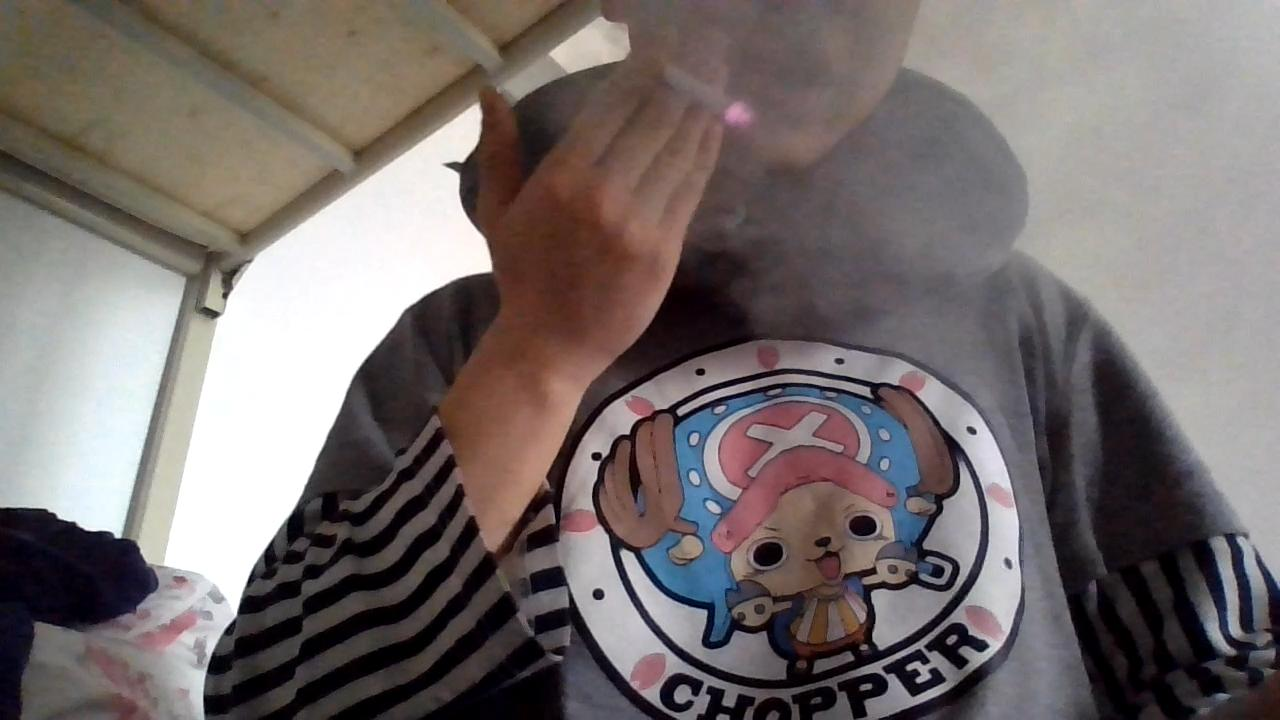yanwu: (881, 2, 1206, 296)
